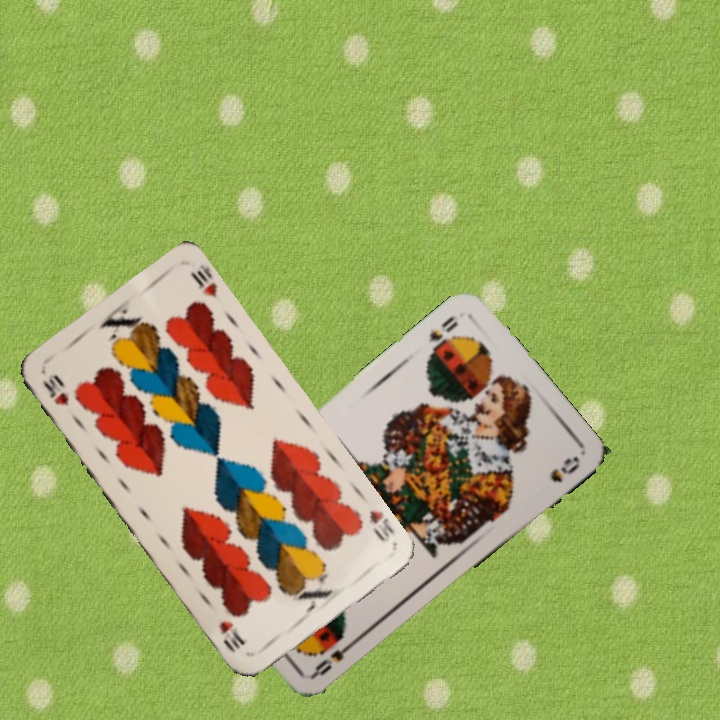H10: (39, 370, 72, 409), (365, 506, 397, 545)
SO: (308, 636, 358, 680), (423, 311, 461, 354)
